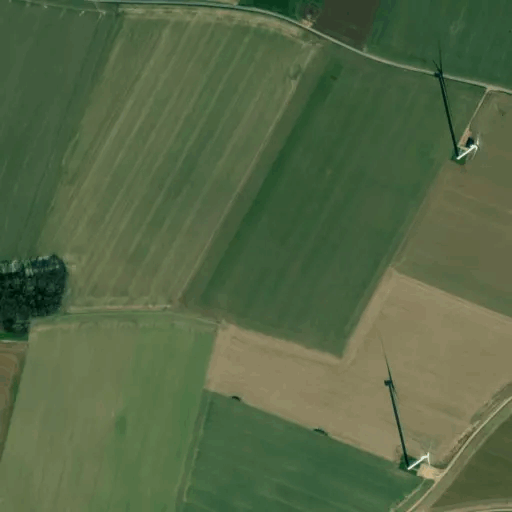wt: (375, 333, 438, 478), (420, 40, 485, 168)
